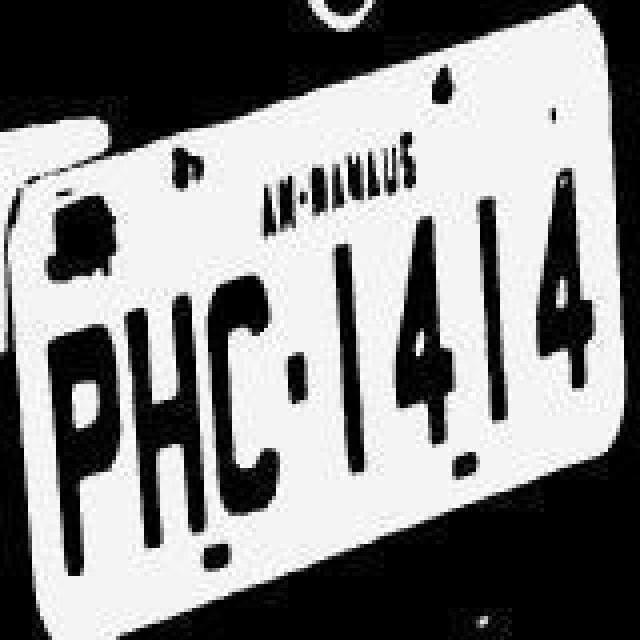1: (326, 230, 370, 514), (474, 170, 518, 438)
4: (522, 156, 598, 412), (388, 210, 460, 462)
C: (210, 264, 286, 528)
H: (128, 254, 208, 546)
P: (44, 294, 124, 586)
